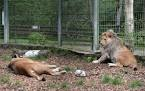lion: (94, 27, 140, 69), (7, 51, 59, 81)
